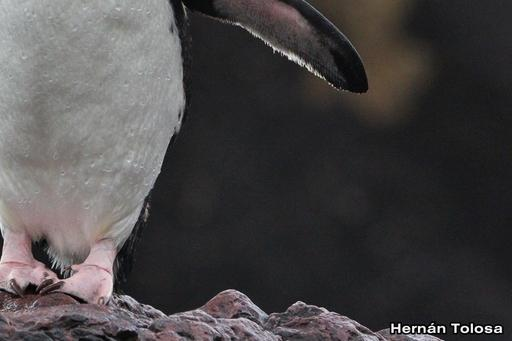Southern Rockhopper Penguin: (0, 0, 373, 302)
